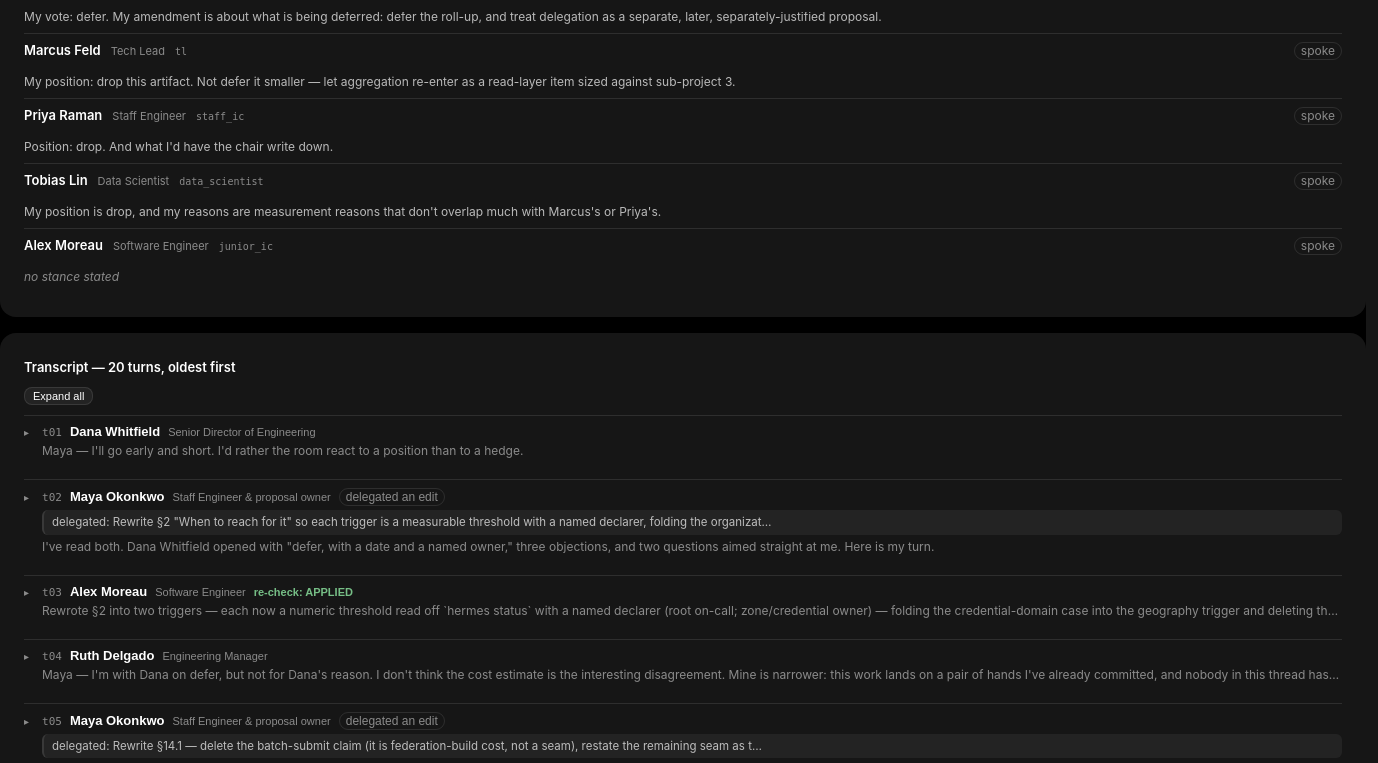
CommitteeView and its host globals › resolves the host Markdown at render time, not at module scope
Click the button with test id "expand-all" at (59, 396), box left=24, top=387, right=93, bottom=405
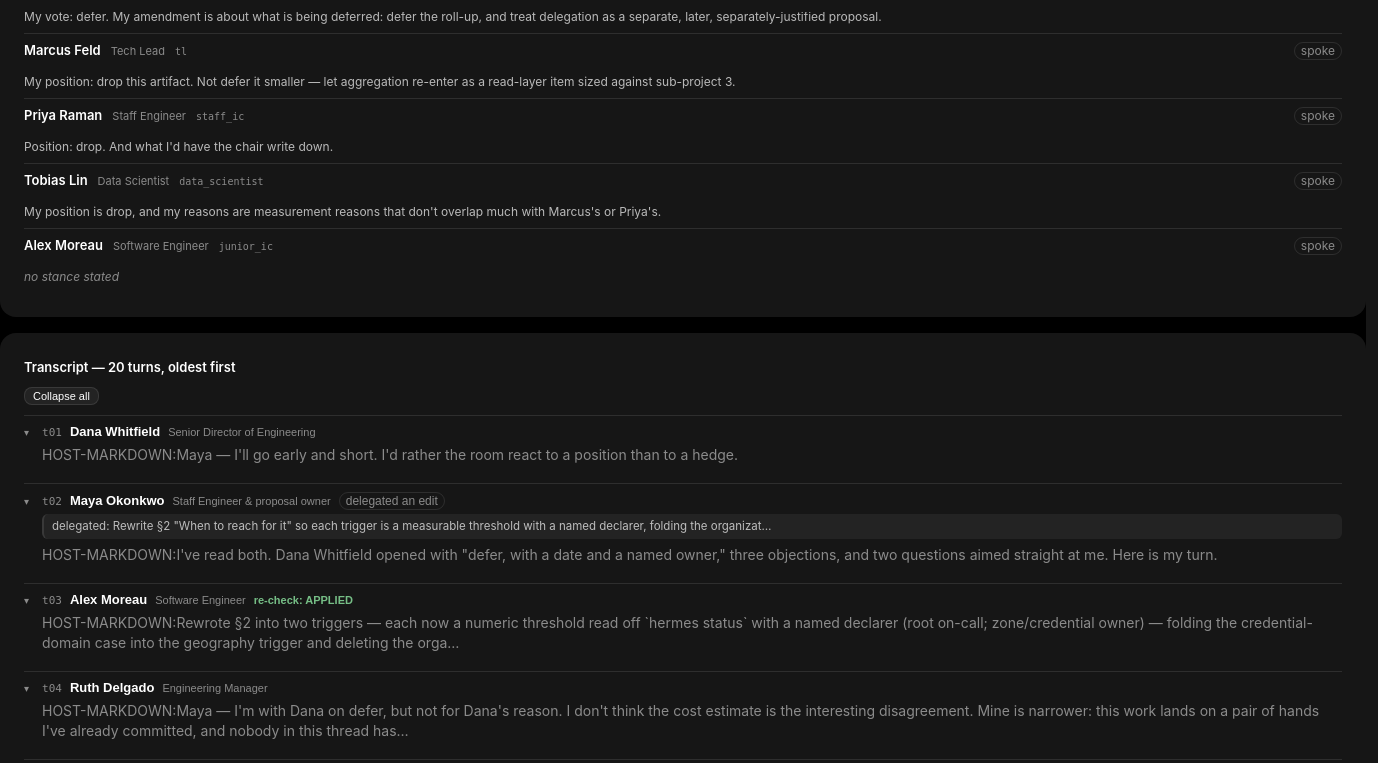
Check: the text "HOST-MARKDOWN" is shown, box left=42, top=446, right=176, bottom=463
